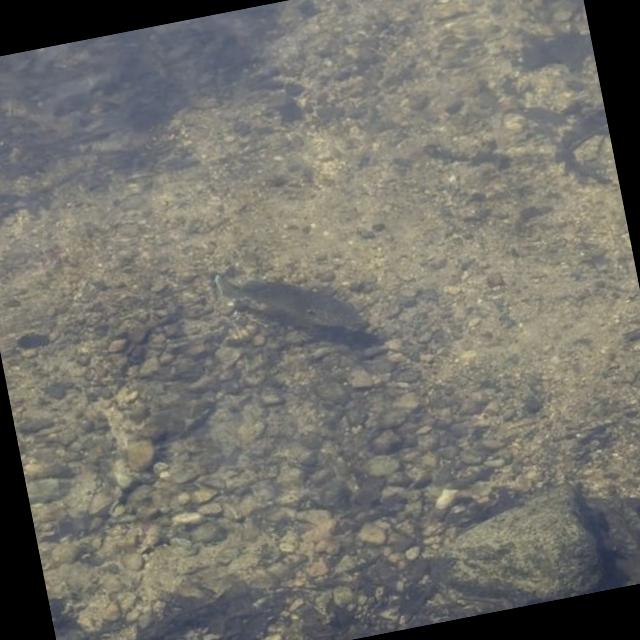Gunes Levregi: (205, 236, 380, 366)
